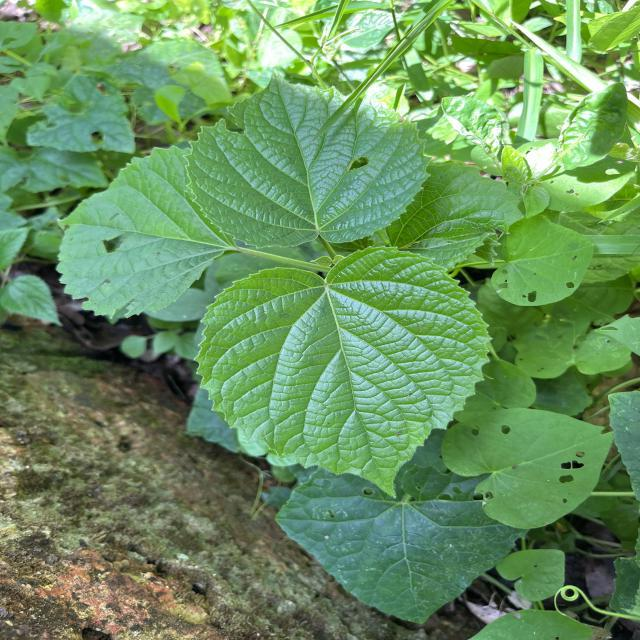Clerodendrum infortunatum: (189, 244, 489, 496), (181, 66, 432, 250)
